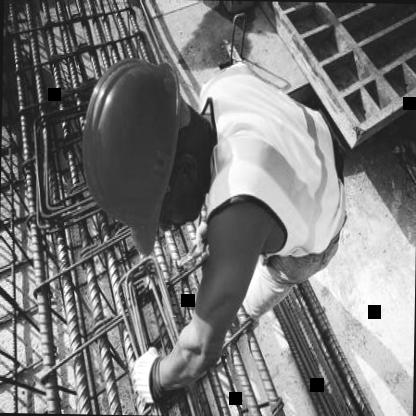helmet: (73, 47, 212, 256)
